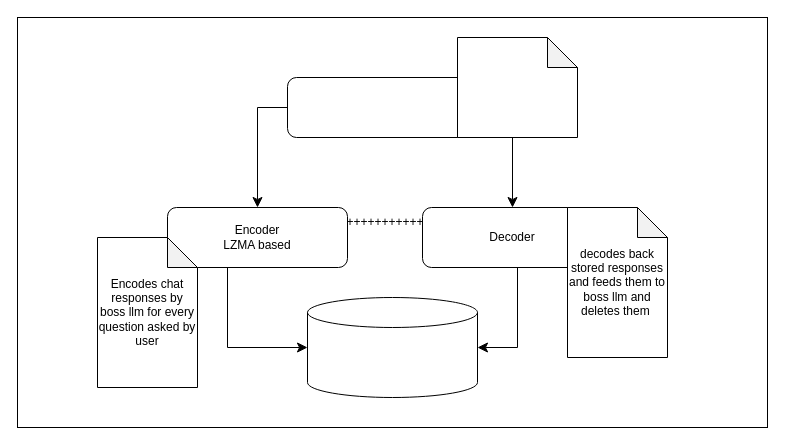
Some shapes in this 785 by 445 pixel diagram are drawn without their labels. The shapes that lost their labels are listed below. From the top down, each one's centre as x and y in pixels, then its label:
At point (382, 107): "Boss LLM (Gemini)".
At point (517, 87): "Responds to user queries and also reabsorbs previous context".
At point (392, 347): "memory".
